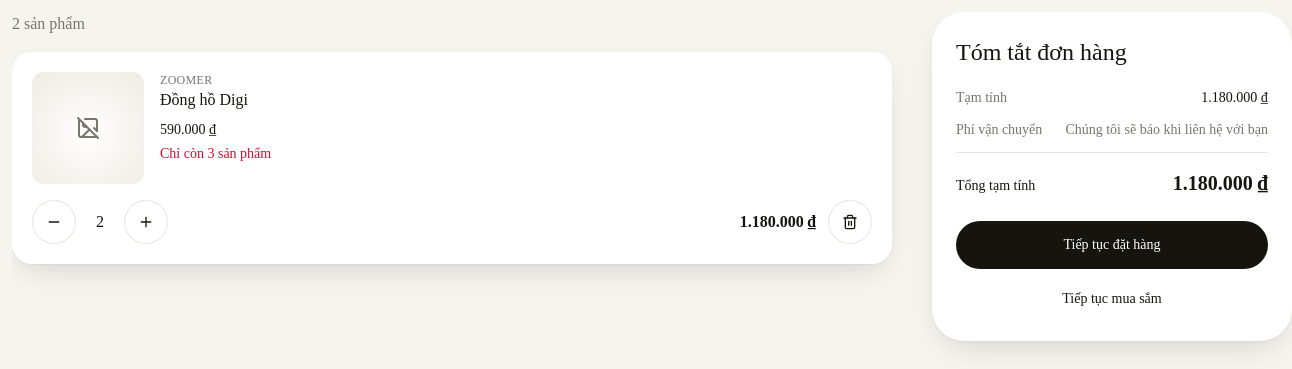
totals and quantities › stops increasing at the available stock
This screenshot has width=1292, height=369.
Expected: the link "Đồng hồ Digi" is shown, [160,91,248,108]
Click the button named "Tăng số lượng của Đồng hồ Digi" at x=146, y=222, box [124,200,168,244]
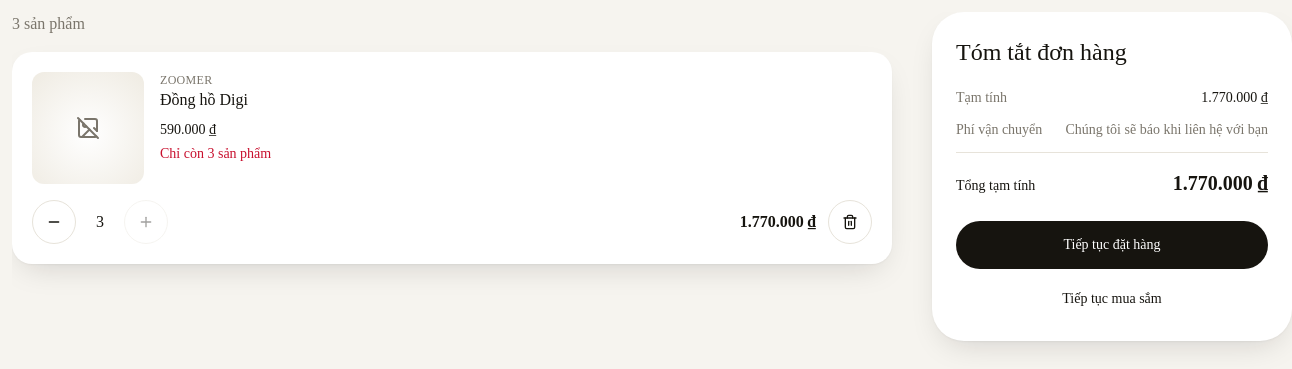
Expected: the text "Chỉ còn 3 sản phẩm" is shown, [160,146,271,161]
Result: the button named "Tăng số lượng của Đồng hồ Digi" is disabled at [124,200,168,244]
